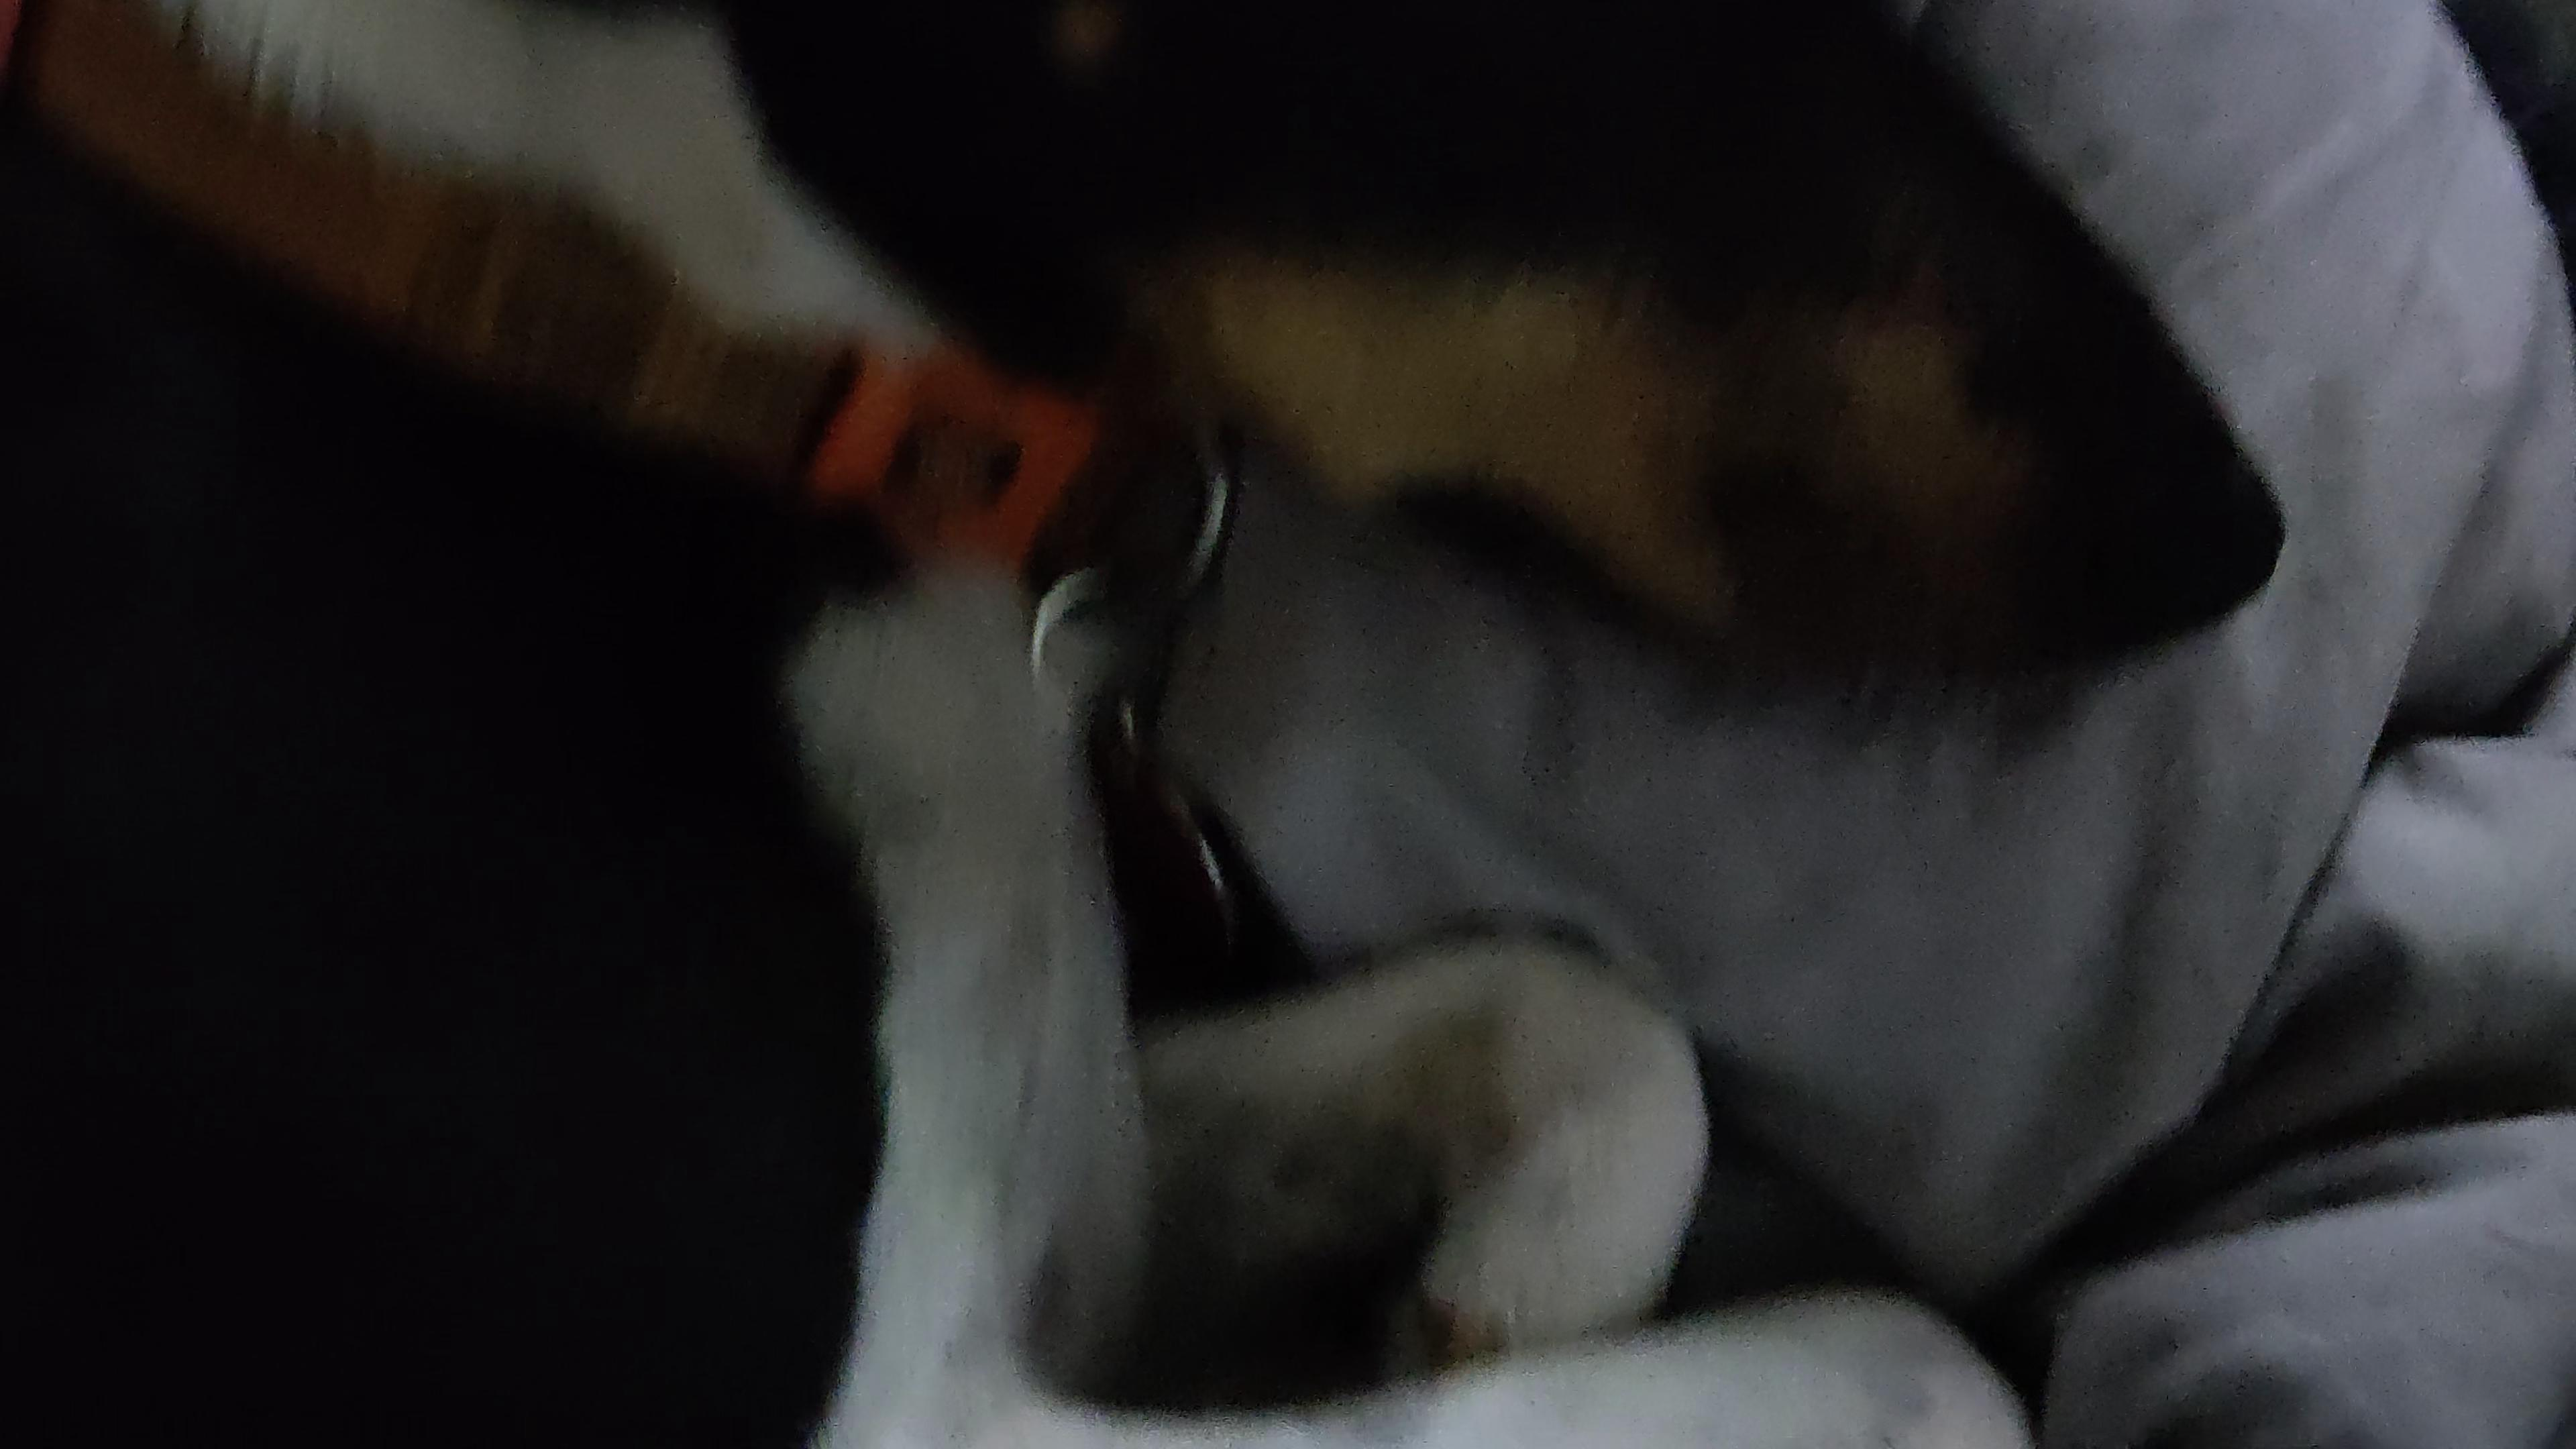Dog: (0, 0, 2312, 1449)
